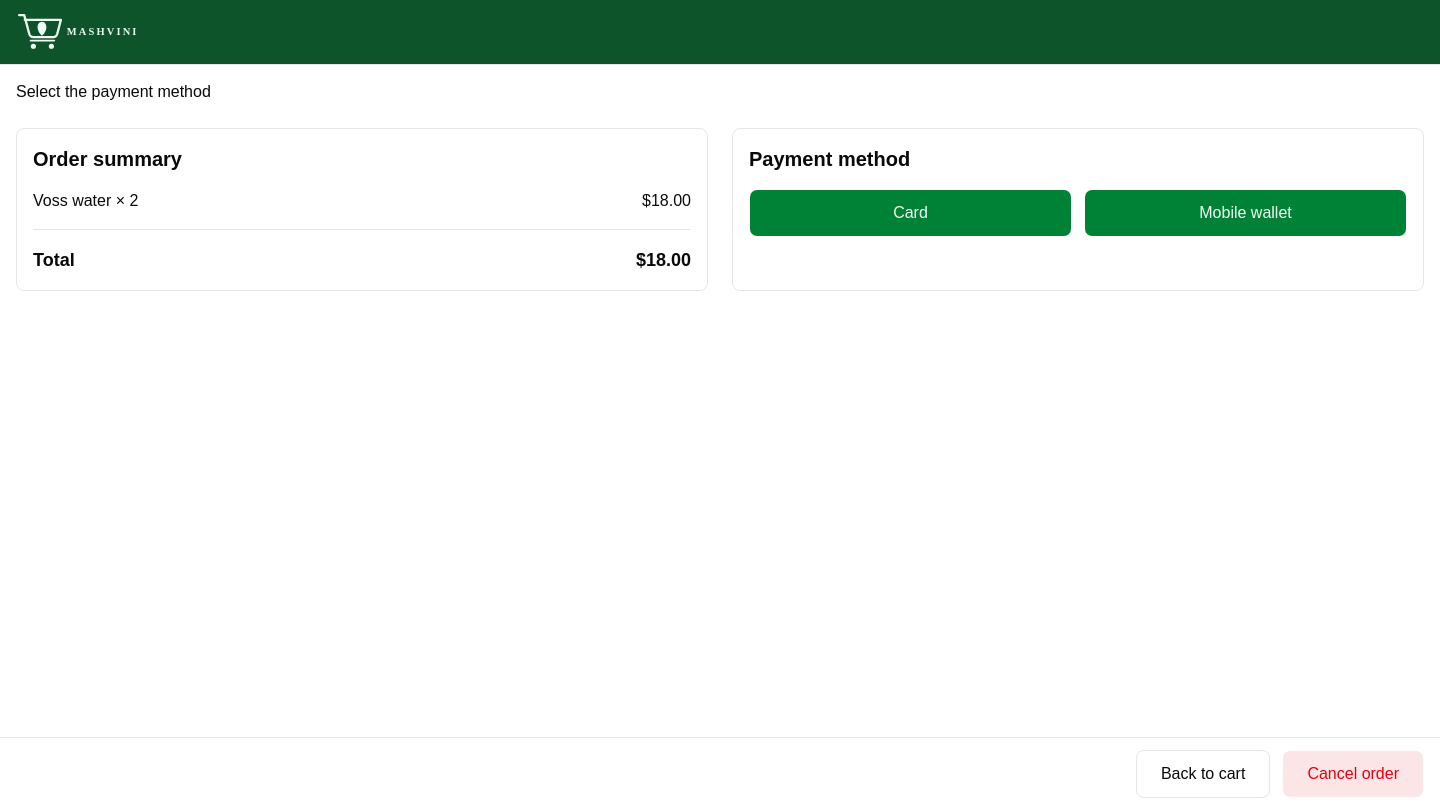
Test case: PaymentScreen › toasts and returns to method choice on a gateway error
Click the button with aria-label "Pay with card" at (910, 213), box [749, 189, 1072, 237]
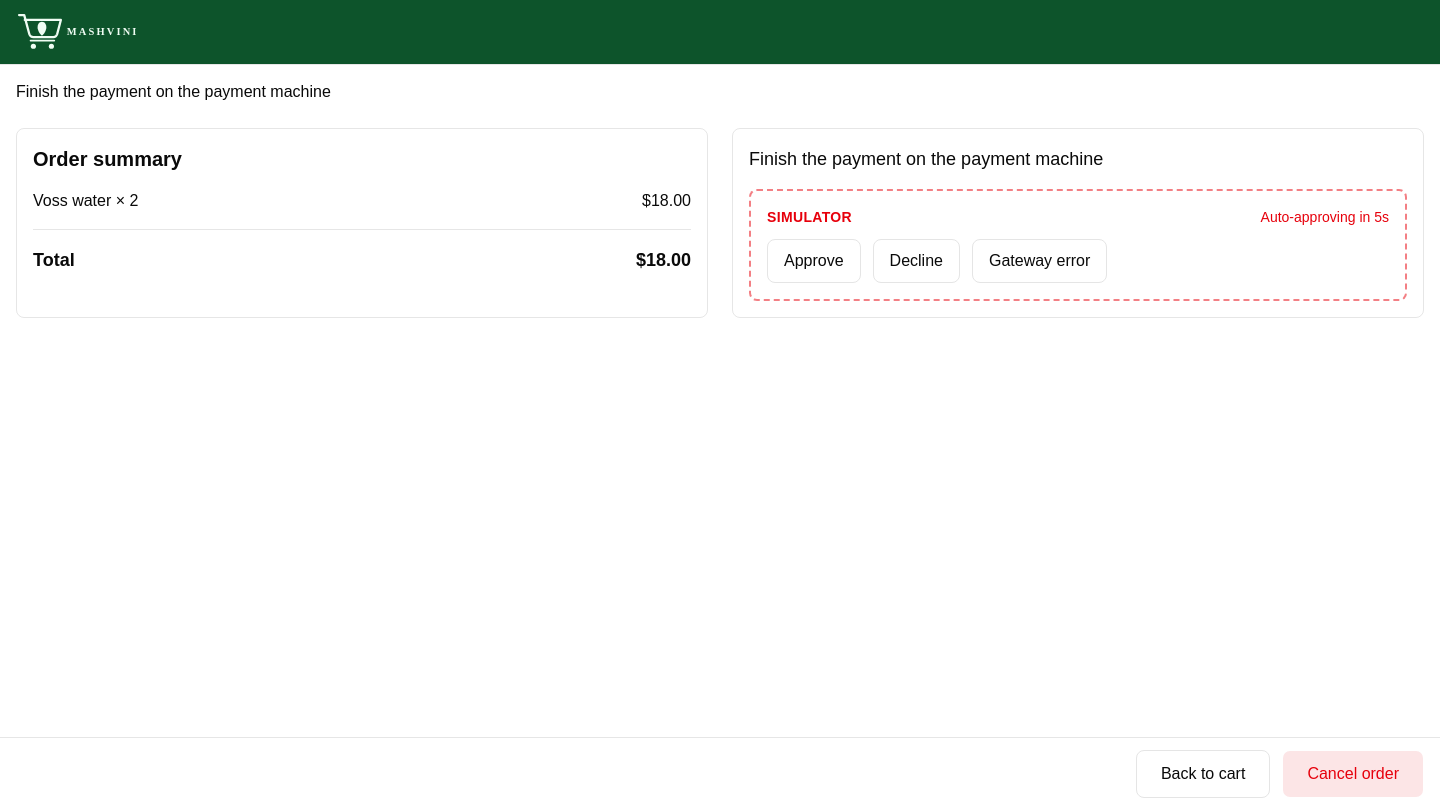
Click the button with aria-label "Simulate a gateway error" at (1040, 261), box [972, 239, 1107, 283]
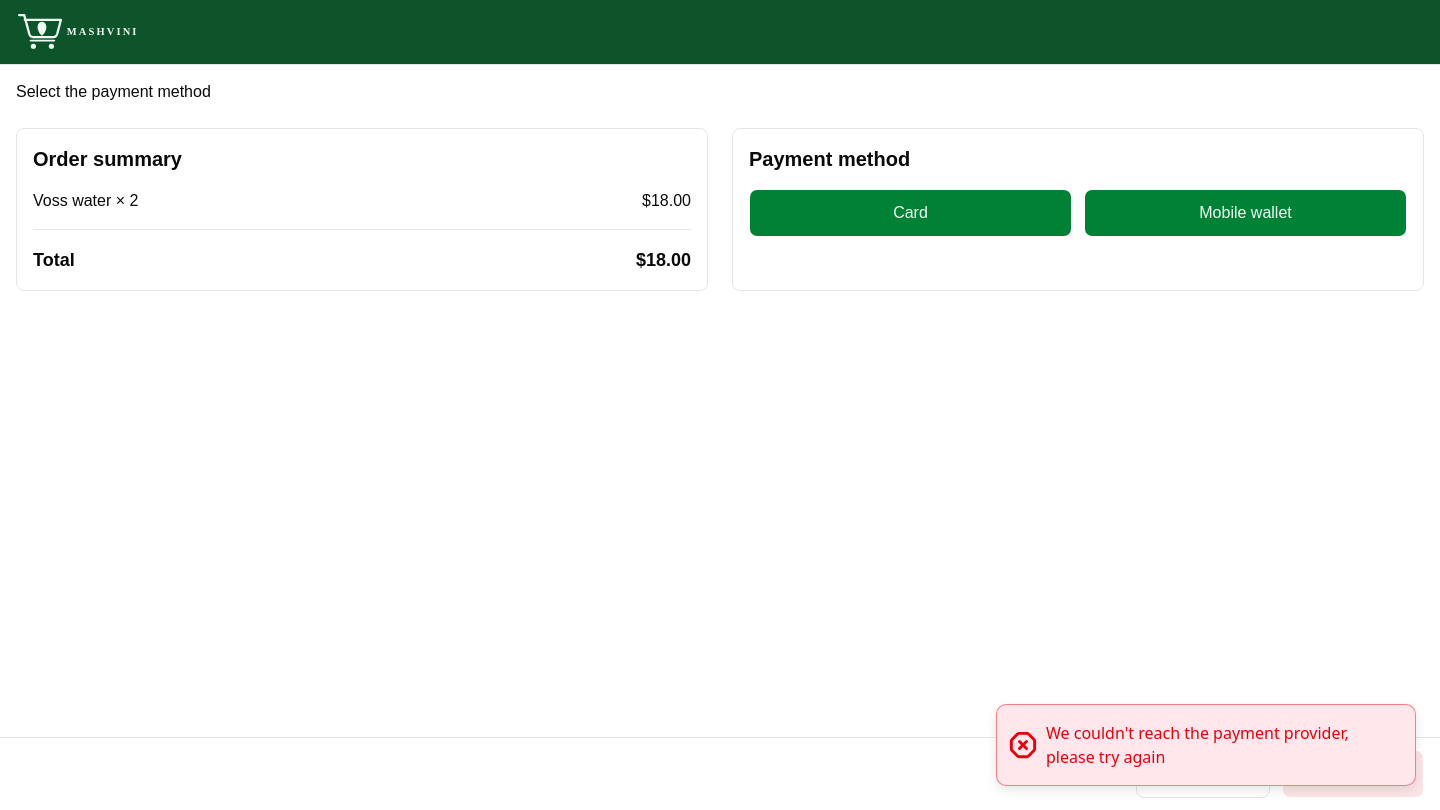
Expected: the text "We couldn't reach the payment provider, please try again" is shown, [1046, 721, 1399, 769]
Expected: the button with aria-label "Pay with card" is shown, [749, 189, 1072, 237]
